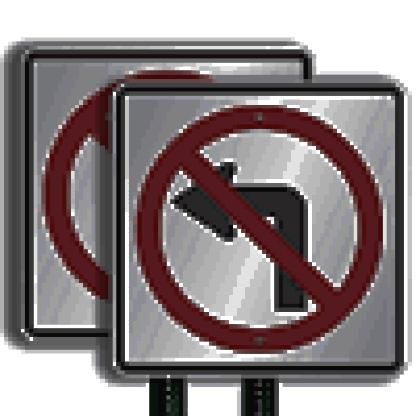No left turn: (119, 90, 394, 364)
